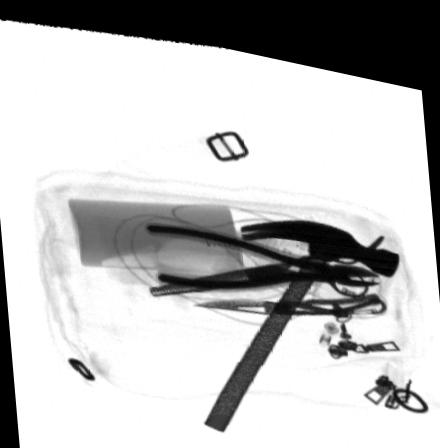Hammer: (200, 204, 399, 423)
Knife: (191, 274, 389, 303)
Pliers: (144, 214, 378, 284)
Scissors: (146, 216, 385, 290)
